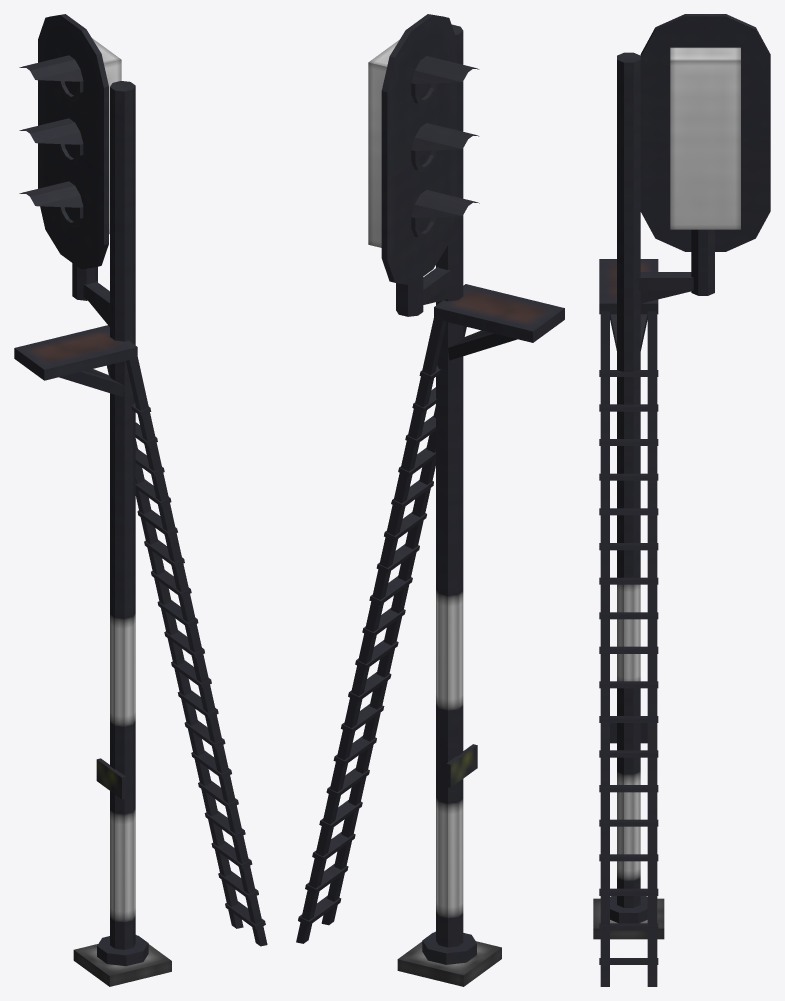
File: dutch signal wip.obj
3 renders of one model, left to right at view 1: azimuth 30°, elevation 25°; view 2: azimuth 150°, elevation 25°; view 3: azimuth 270°, elevation 25°, orthographic. The views are drawn at different scales.
Parts seen in each view (by area): view 1: cylinder, cube, tube; view 2: cylinder, cube, tube; view 3: cube, cylinder.
Boxes of the visible parts, x1,y1,x2,y2 form: cylinder: (38, 14, 148, 966); cube: (14, 38, 267, 986); tube: (19, 55, 83, 227); cylinder: (381, 14, 476, 964); cube: (296, 39, 564, 986); tube: (411, 56, 479, 239); cube: (593, 47, 740, 986); cylinder: (610, 14, 770, 923).
Size of the model in its own units: 1.35 by 5.28 by 0.9375.
Materials: 1 (1 with a texture image).
